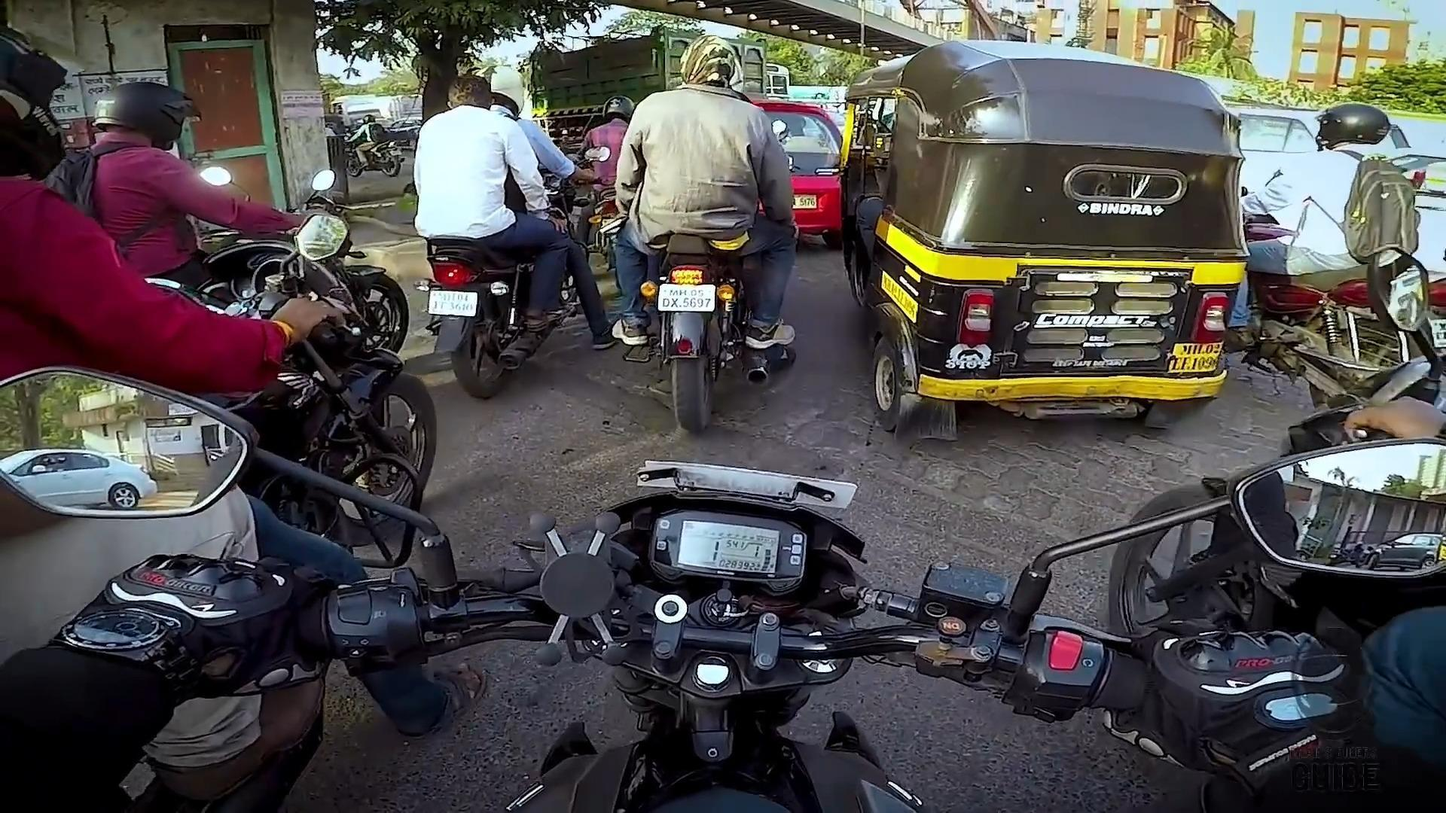Helmet: (83, 73, 213, 164), (1310, 92, 1397, 162)
bike: (625, 119, 795, 435), (417, 130, 612, 401), (1237, 169, 1446, 417)
no-helmet: (673, 26, 748, 100), (435, 65, 507, 123)
number-plate: (657, 280, 717, 317)
rider: (606, 24, 799, 353), (62, 71, 312, 288), (413, 65, 575, 335), (1241, 97, 1418, 324)
